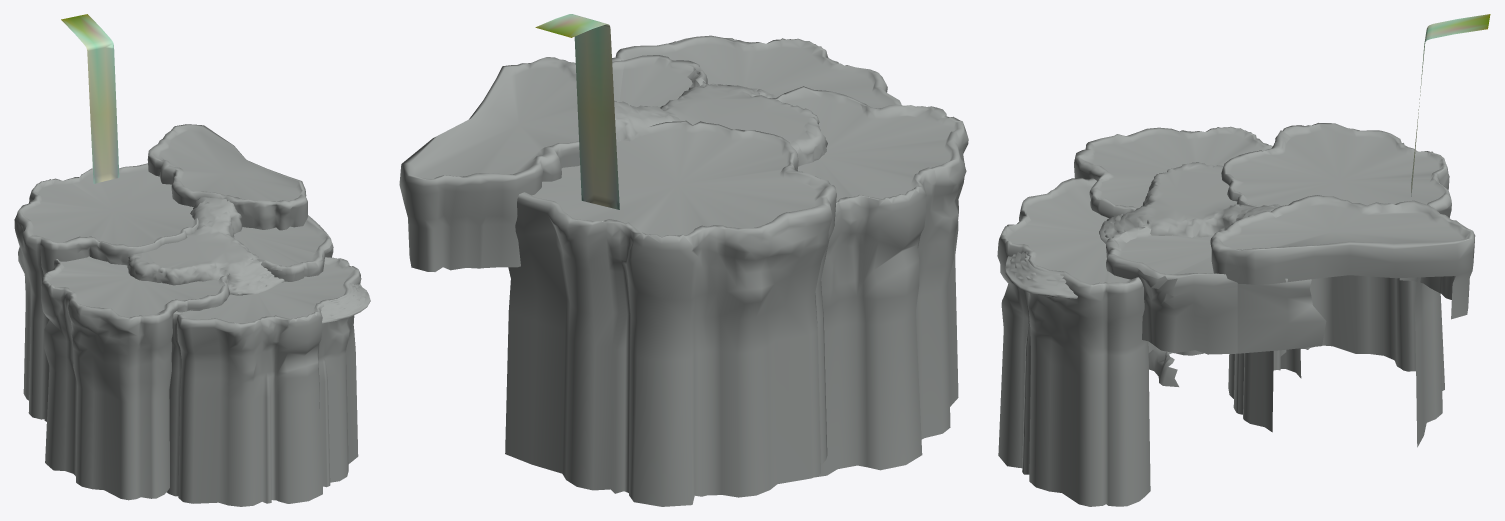
The picture shows the model from 3 angles, left to right: view 1: azimuth 30°, elevation 25°; view 2: azimuth 150°, elevation 25°; view 3: azimuth 270°, elevation 25°; orthographic projection. The views are drawn at different scales.
Visible parts, largest first — view 1: G:\FFXIV-MapTools\exports\e3t1\bg\ex2\02_est_e3\twn\e3t1\bgp (×5); view 2: G:\FFXIV-MapTools\exports\e3t1\bg\ex2\02_est_e3\twn\e3t1\bgp (×5); view 3: G:\FFXIV-MapTools\exports\e3t1\bg\ex2\02_est_e3\twn\e3t1\bgp (×5).
Part boxes in pixels (box(x1,y1,x2,y2)): G:\FFXIV-MapTools\exports\e3t1\bg\ex2\02_est_e3\twn\e3t1\bgp (×5): box(14, 14, 370, 506); G:\FFXIV-MapTools\exports\e3t1\bg\ex2\02_est_e3\twn\e3t1\bgp (×5): box(399, 14, 968, 506); G:\FFXIV-MapTools\exports\e3t1\bg\ex2\02_est_e3\twn\e3t1\bgp (×5): box(997, 14, 1490, 506).
Size of the model in its own units: 37.32 by 45.27 by 48.7.
